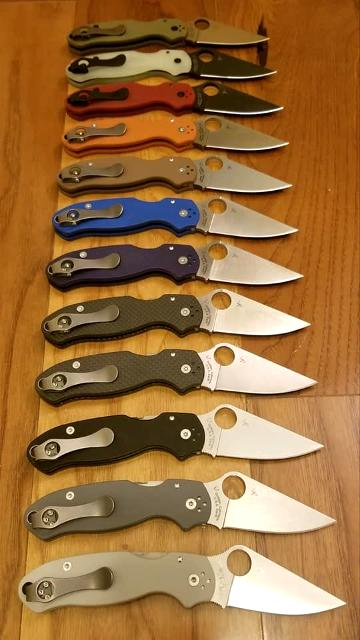pocket-knife: (13, 542, 360, 640), (22, 466, 344, 542), (23, 404, 326, 478), (30, 344, 322, 406), (36, 286, 314, 350), (40, 238, 305, 288), (49, 194, 299, 242), (53, 147, 294, 195), (61, 112, 296, 156), (61, 82, 288, 120), (61, 46, 279, 84), (66, 14, 268, 48)
